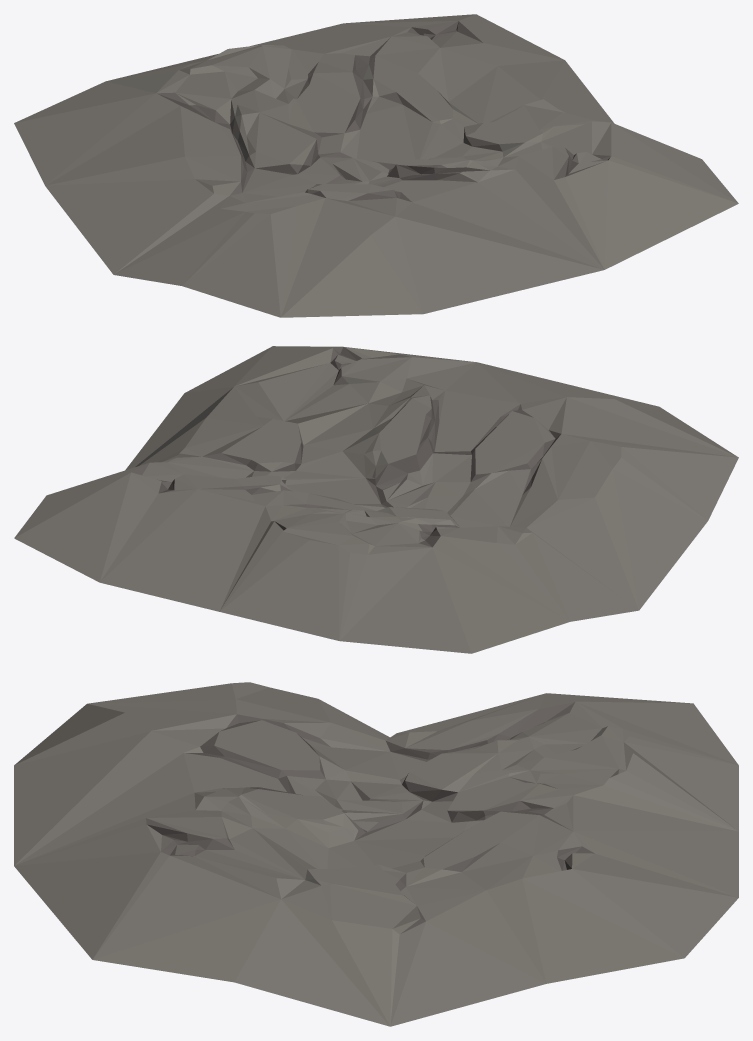
File: SM_Env_CrackedRock_03.FBX
The picture shows the model from 3 angles, top to bottom: view 1: azimuth 30°, elevation 25°; view 2: azimuth 150°, elevation 25°; view 3: azimuth 270°, elevation 25°; orthographic projection. The views are drawn at different scales.
Parts seen in each view (by area): view 1: SM_Env_CrackedRock_03; view 2: SM_Env_CrackedRock_03; view 3: SM_Env_CrackedRock_03.
Part boxes in pixels (x1,y1,x2,y2): SM_Env_CrackedRock_03: (14, 14, 738, 317); SM_Env_CrackedRock_03: (14, 346, 738, 653); SM_Env_CrackedRock_03: (14, 682, 738, 1026).
Size of what is drawn, in the model's own units: 1443 by 1529 by 253.
